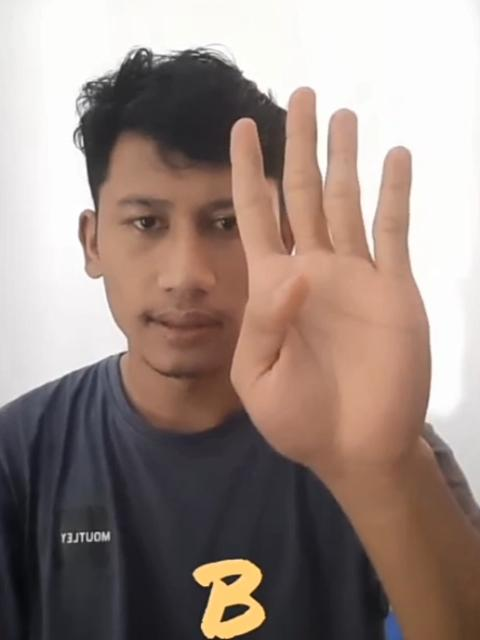B: (225, 84, 433, 468)
